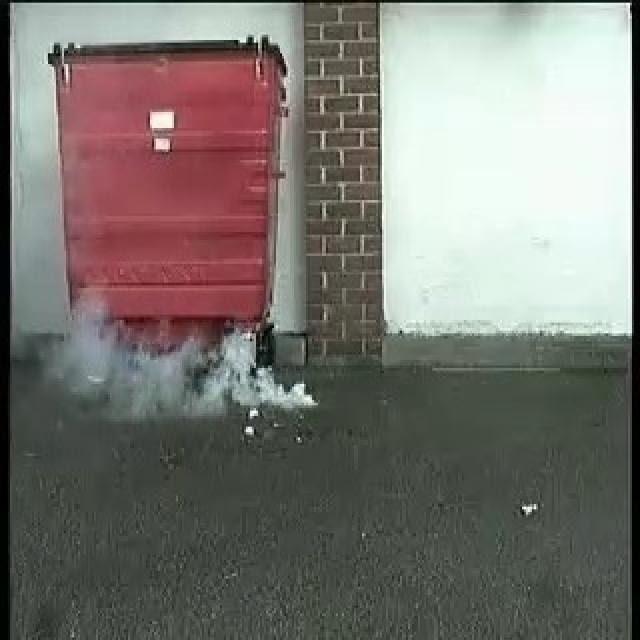smoke: (46, 307, 320, 424)
